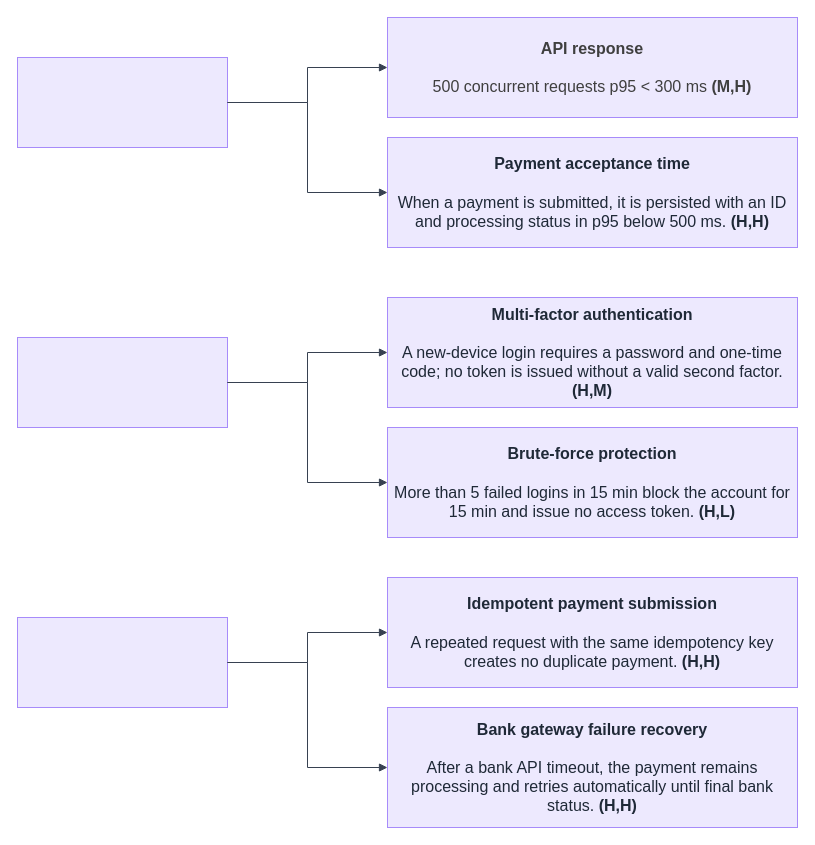
Image size: 815x845. Some labels were removed from this diagram. Here are the shapes that lost their labels. From the top down, the centre of each, then its label:
At [122,102]: "Performance efficiency".
At [122,382]: "Security".
At [122,662]: "Reliability".
